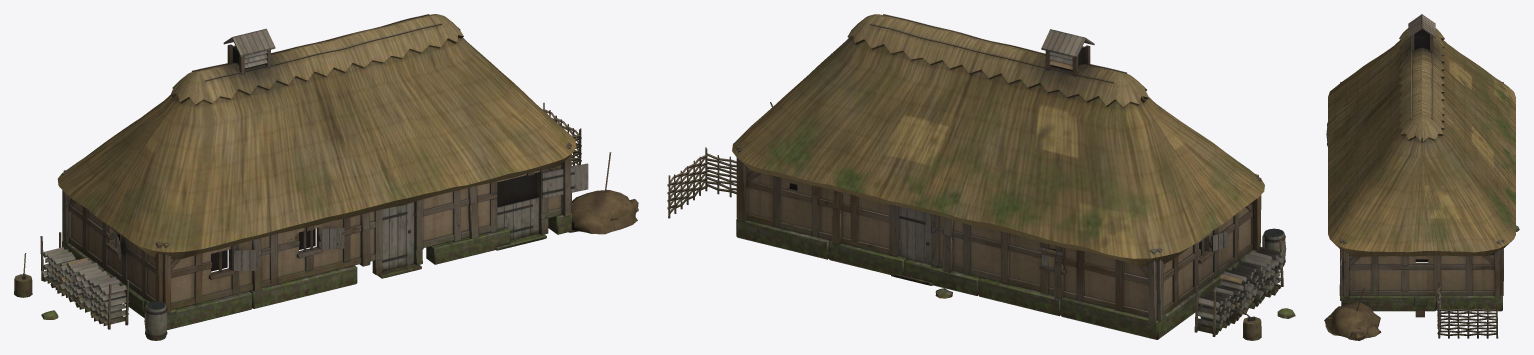
File: house.glb
3 renders of one model, left to right at view 1: azimuth 30°, elevation 25°; view 2: azimuth 150°, elevation 25°; view 3: azimuth 270°, elevation 25°, orthographic. The views are drawn at different scales.
Parts seen in each view (by area): view 1: house_a_LOD0; view 2: house_a_LOD0; view 3: house_a_LOD0.
Part boxes in pixels (box(x1,y1,x2,y2)): house_a_LOD0: box(14, 14, 638, 340); house_a_LOD0: box(667, 14, 1295, 340); house_a_LOD0: box(1324, 14, 1519, 340).
Size of what is drawn, in the model's own units: 16.64 by 6.47 by 6.25.
1 material, 1 textured.
